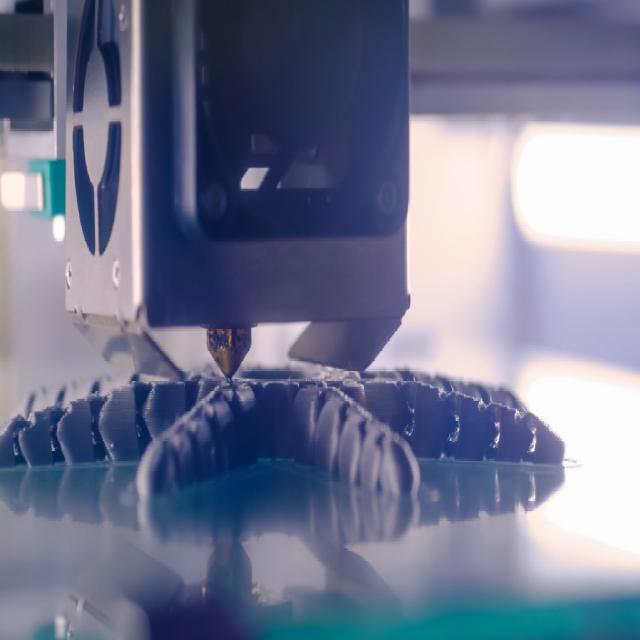Without deffect: (1, 338, 568, 514)
